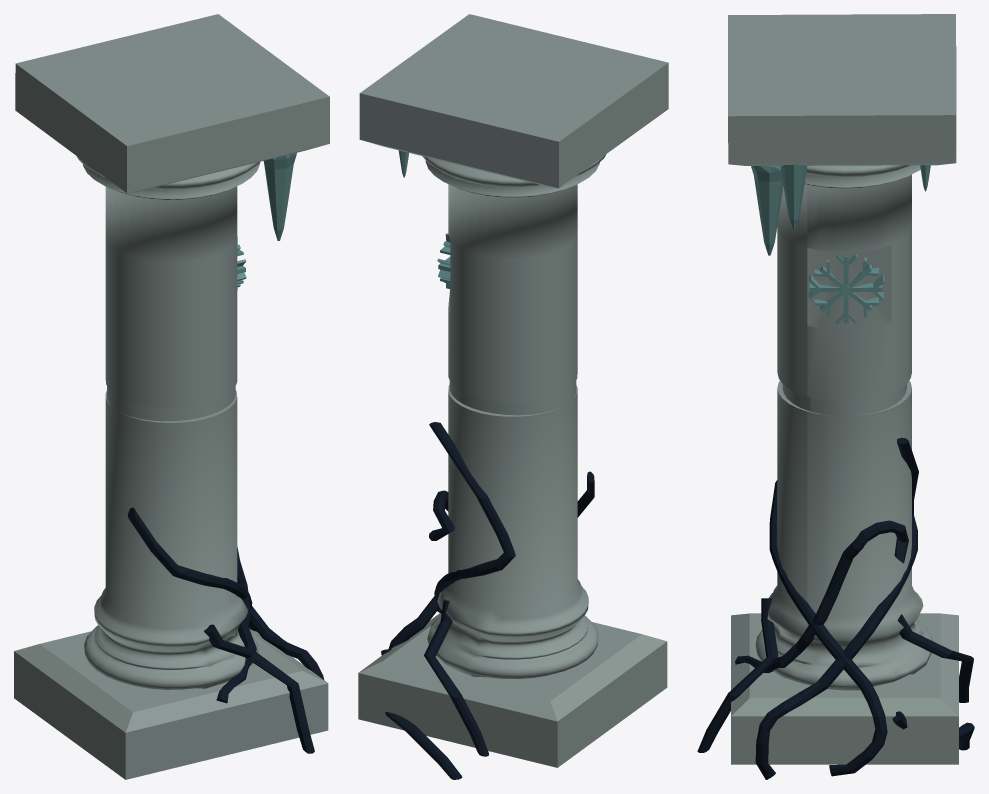
The model's file is WINTER(Pillar).fbx.
The picture shows the model from 3 angles, left to right: view 1: azimuth 30°, elevation 25°; view 2: azimuth 150°, elevation 25°; view 3: azimuth 270°, elevation 25°; orthographic projection. The views are drawn at different scales.
Visible parts, largest first — view 1: Cylinder, Cube.001, Cube, Cylinder.007, Cylinder.002, Icicle, Cylinder.003, Cylinder.004; view 2: Cylinder, Cube.001, Cube, Cylinder.004, Cylinder.005, Cylinder.002, Cylinder.006, Cylinder.003; view 3: Cylinder, Cube.001, Cube, Cylinder.004, Cylinder.002, Cylinder.003, Cylinder.007, Icicle, Cylinder.005, Icicle.001, Cylinder.006.
Part boxes in pixels (left/top/right/bottom): Cylinder: left=76, top=156, right=260, bottom=689; Cube.001: left=15, top=14, right=329, bottom=193; Cube: left=14, top=629, right=328, bottom=779; Cylinder.007: left=204, top=624, right=314, bottom=753; Cylinder.002: left=127, top=507, right=257, bottom=631; Icicle: left=263, top=153, right=296, bottom=240; Cylinder.003: left=216, top=547, right=256, bottom=703; Cylinder.004: left=249, top=606, right=324, bottom=679; Cylinder: left=422, top=154, right=605, bottom=678; Cube.001: left=359, top=14, right=668, bottom=188; Cube: left=358, top=613, right=667, bottom=767; Cylinder.004: left=429, top=422, right=515, bottom=613; Cylinder.005: left=424, top=600, right=488, bottom=756; Cylinder.002: left=388, top=471, right=594, bottom=649; Cylinder.006: left=381, top=649, right=462, bottom=779; Cylinder.003: left=429, top=490, right=454, bottom=540; Cylinder: left=755, top=165, right=932, bottom=690; Cube.001: left=728, top=14, right=956, bottom=165; Cube: left=731, top=613, right=958, bottom=764; Cylinder.004: left=755, top=437, right=918, bottom=779; Cylinder.002: left=769, top=480, right=887, bottom=776; Cylinder.003: left=735, top=520, right=908, bottom=673; Cylinder.007: left=697, top=598, right=778, bottom=752; Icicle: left=751, top=166, right=783, bottom=255; Cylinder.005: left=897, top=614, right=973, bottom=702; Icicle.001: left=780, top=164, right=807, bottom=230; Cylinder.006: left=892, top=711, right=974, bottom=750.
Size of the model in its own units: 253 by 750 by 275.
